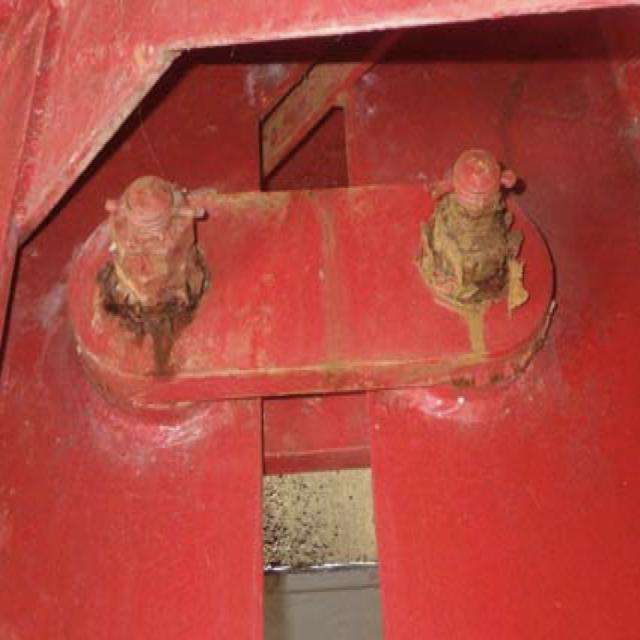corrosion: (94, 247, 214, 382), (417, 205, 534, 322)
